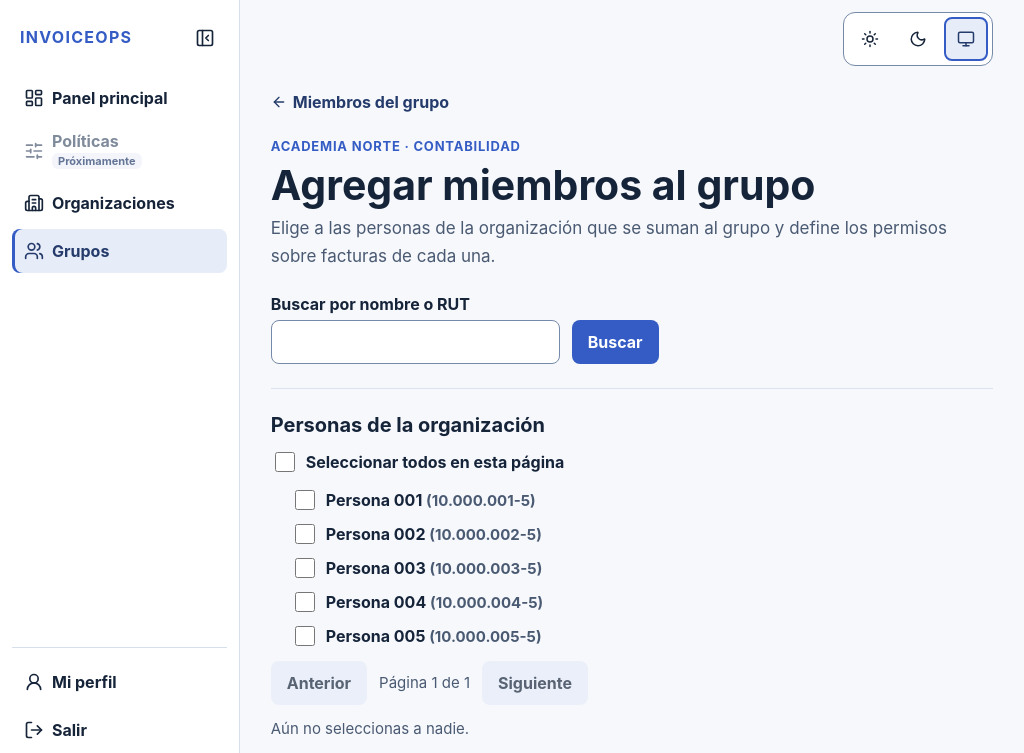
it: AddMembersForm pre-check (CR-312/CR-313) › sends nothing when the page is left while the selection is being checked (CR-312)
The image size is (1024, 753).
Step 1. Click the checkbox labelled "Persona 001 (10.000.001-5)" → x=305, y=500, box 295,490 -> 315,510
(page scrolled)
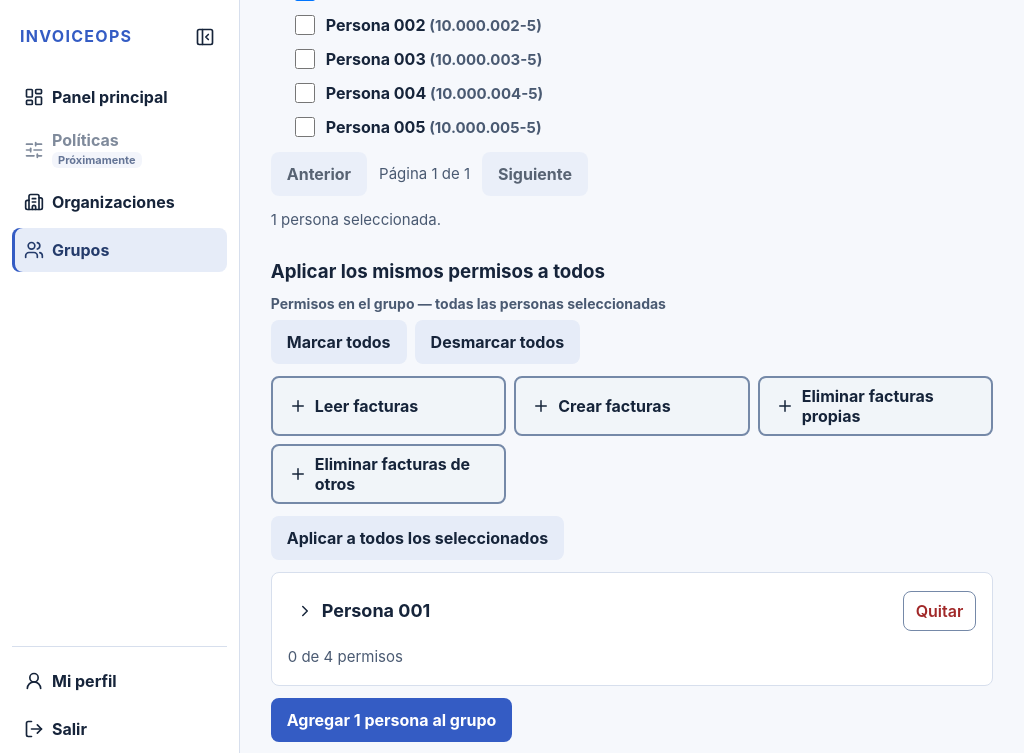
Step 2. Click the button "Agregar 1 persona al grupo" → x=392, y=720, box 271,698 -> 512,742
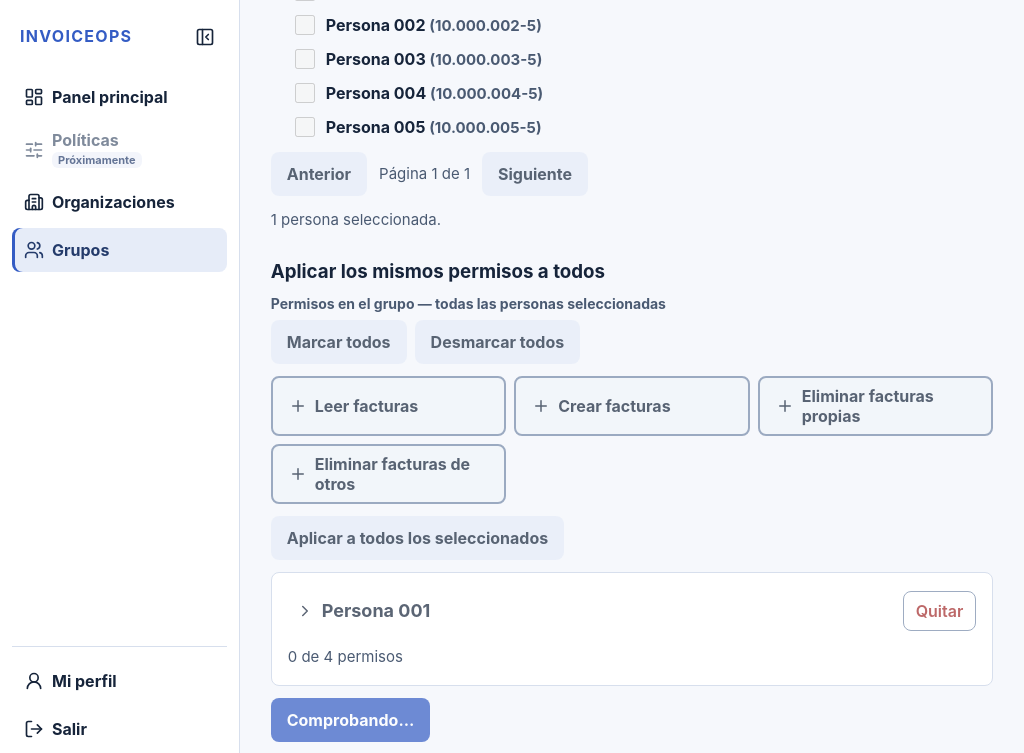
expect the button "Comprobando..." is shown: met, box 271,698 -> 430,742
